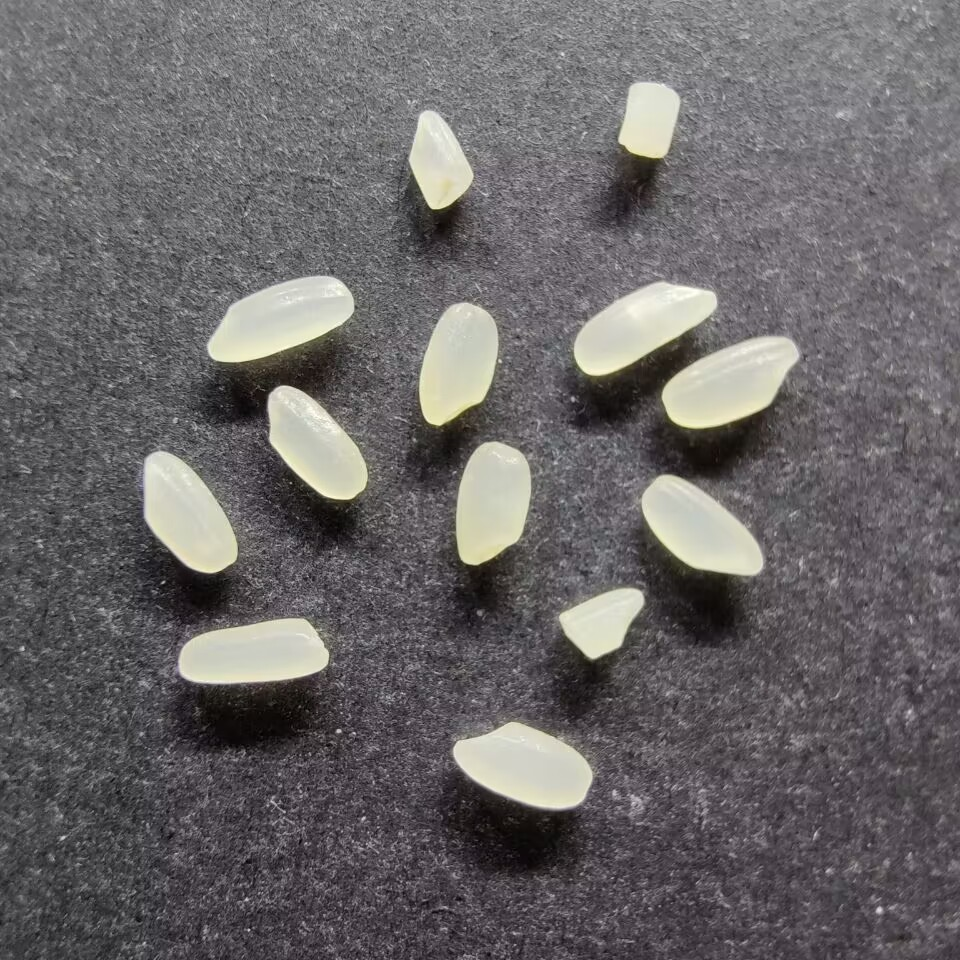broken: (407, 110, 473, 211), (558, 586, 646, 660), (618, 80, 680, 159)
rice: (572, 280, 718, 376), (205, 274, 355, 363), (660, 335, 801, 429), (640, 473, 765, 578), (451, 720, 593, 809), (141, 449, 238, 575), (266, 384, 367, 500), (176, 617, 331, 684), (419, 301, 497, 425), (454, 441, 531, 565)
